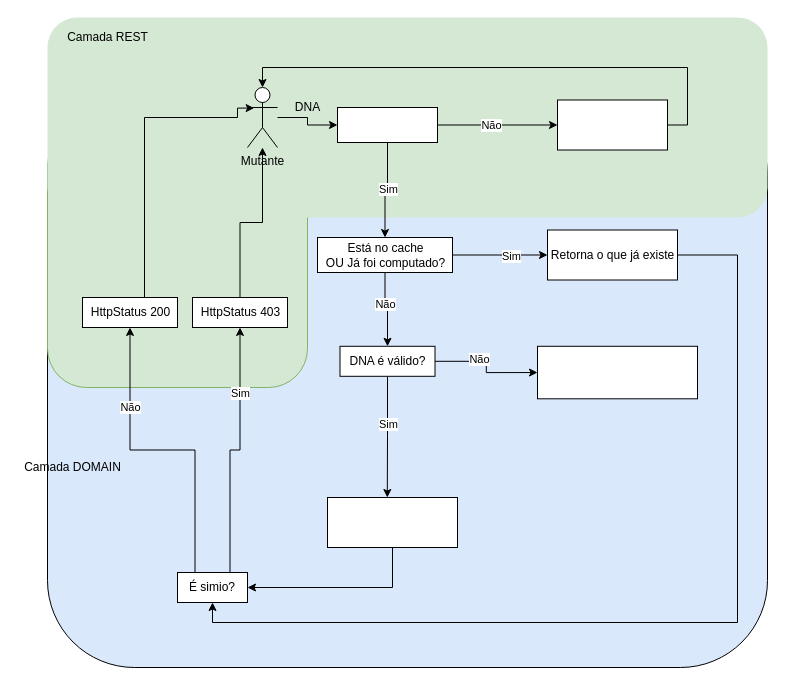
Image size: 785x685. Some labels were removed from this diagram. Each missing label, with the box of its shape:
Algoritmo isSimian(...): (326, 496, 458, 548)
HttpStatus: 400 BAD_REQUEST Payload de Erro: (556, 99, 668, 150)
ValidationException que será tratada pela camada REST: (536, 345, 698, 399)
É válido?: (336, 106, 438, 142)
